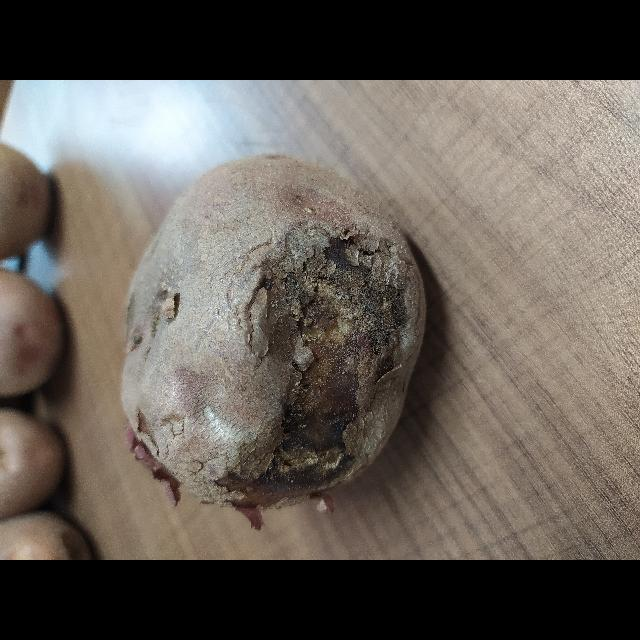Damaged potato: (40, 190, 412, 520)
